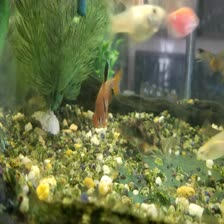Guppy: (103, 2, 167, 43)
Kiros: (114, 114, 179, 158)
Plano: (159, 3, 199, 39)
Transparente: (83, 63, 127, 132)
